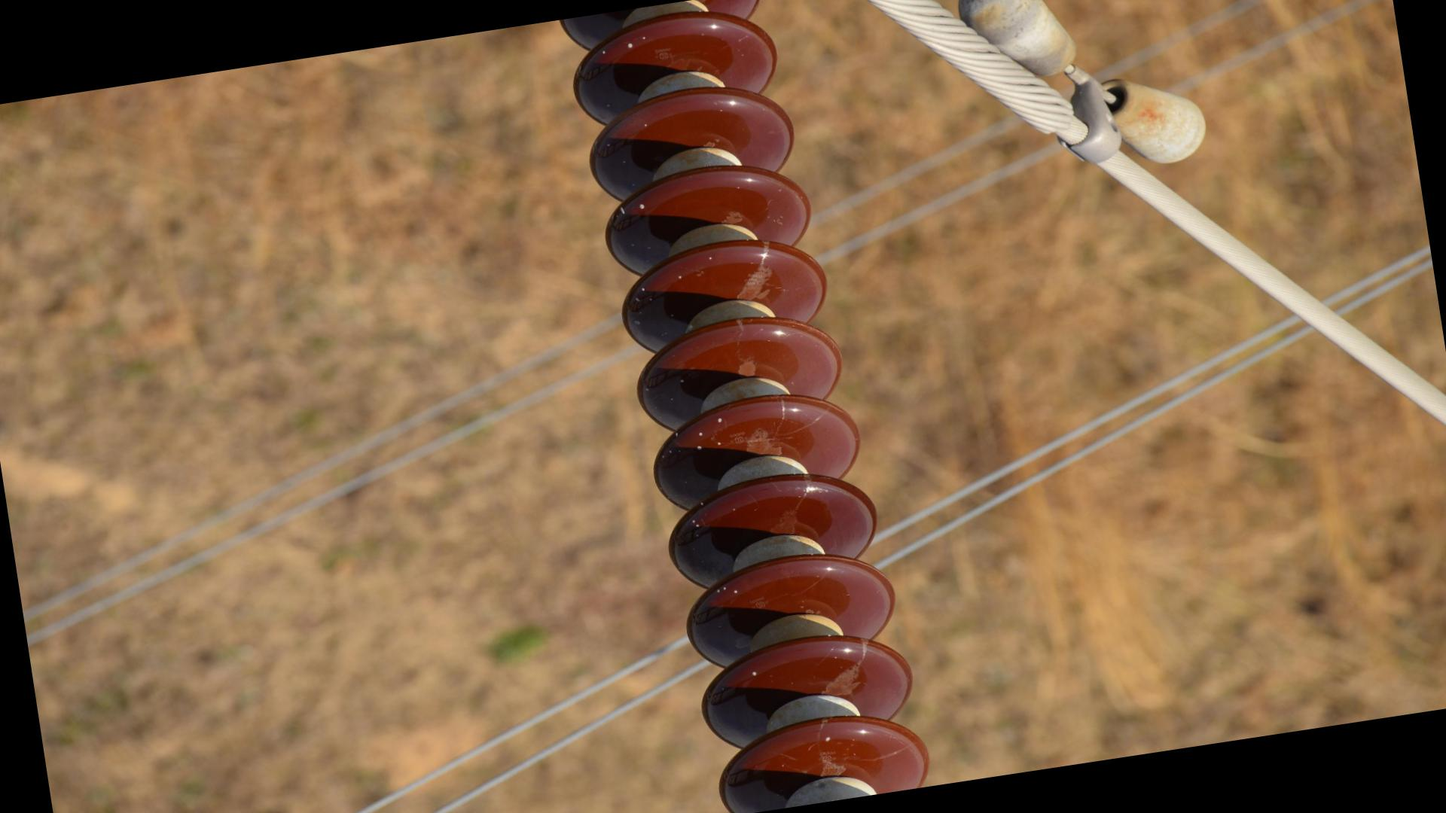damper: (946, 1, 1218, 199)
